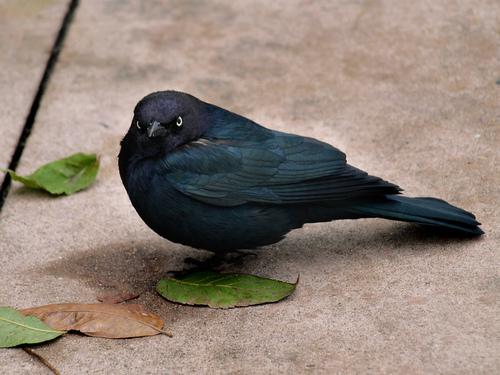009.Brewer_Blackbird: (116, 90, 483, 267)
